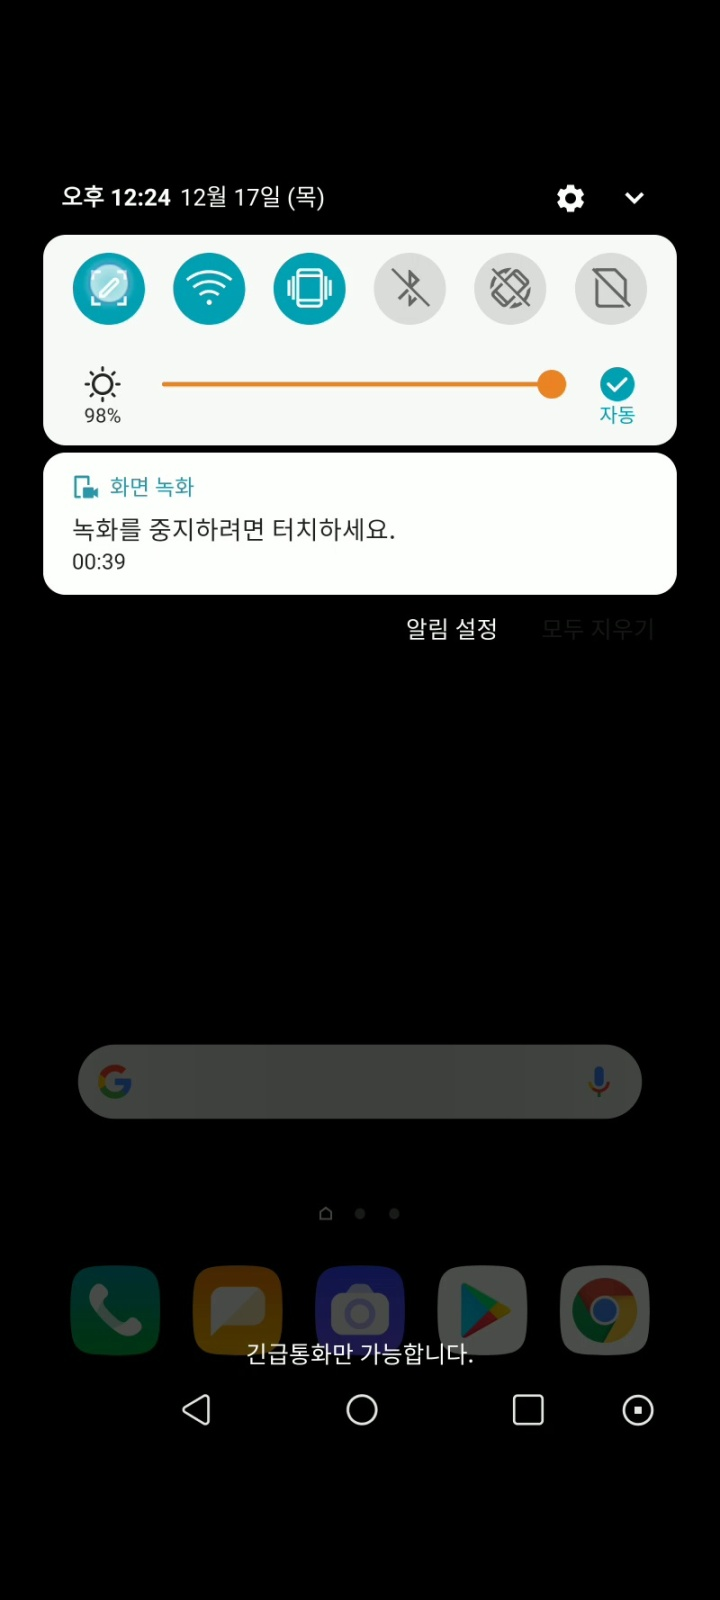Cursor: (88, 260, 133, 305)
